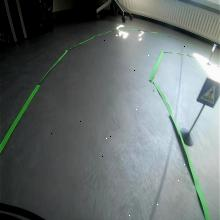crosswalk: (195, 76, 220, 108)
